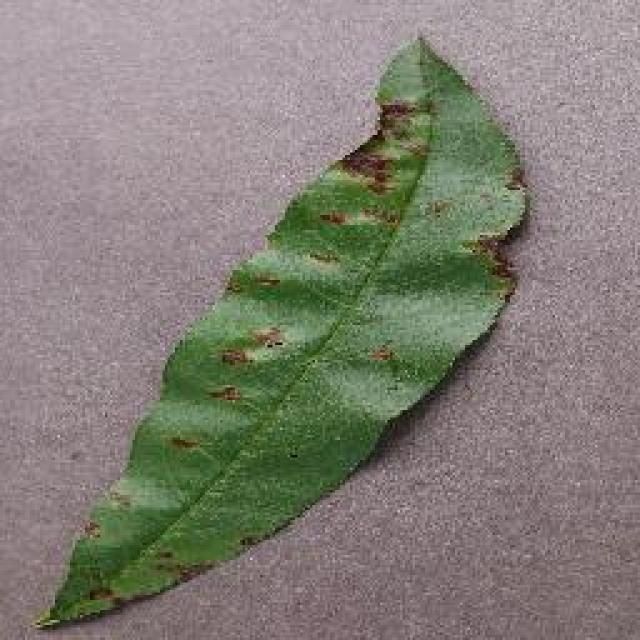Pea_Bacterial_spot: (33, 525, 235, 626), (315, 90, 445, 245), (462, 152, 536, 308), (199, 317, 289, 413)
